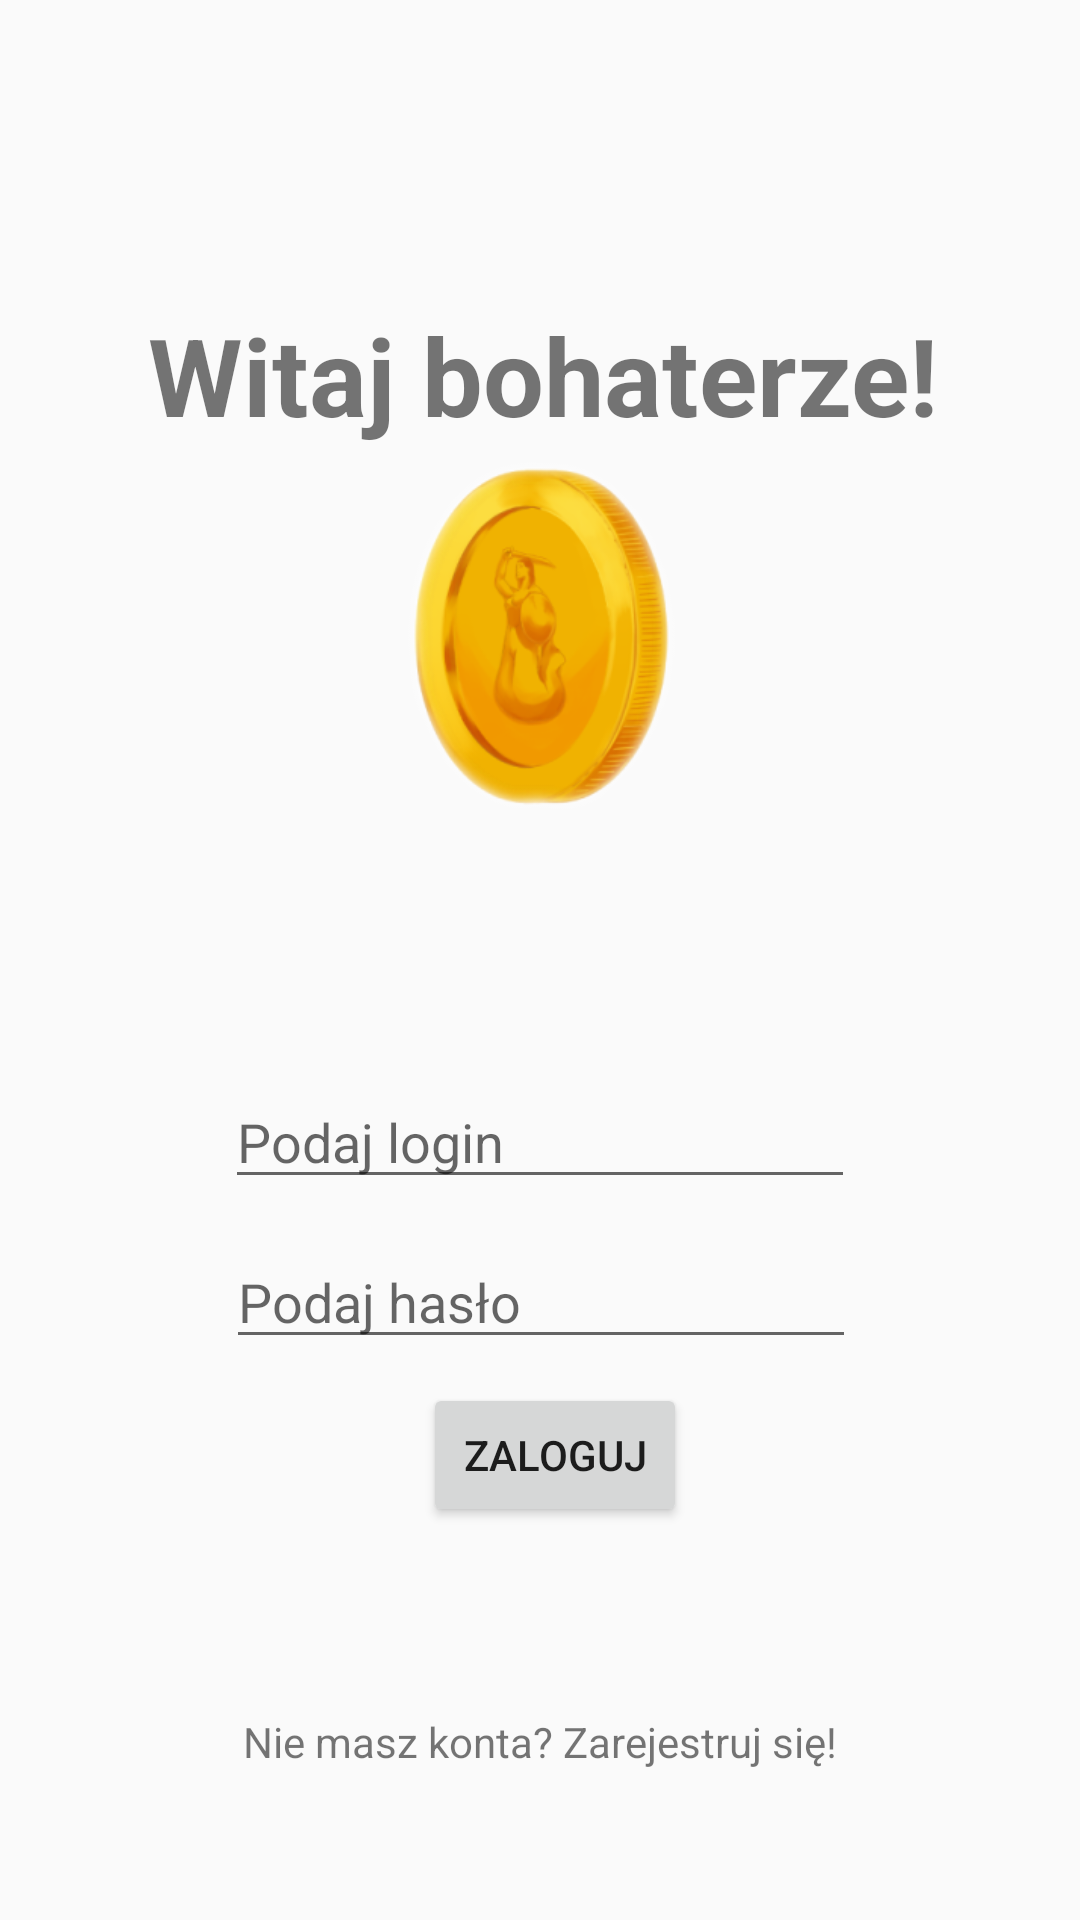

Named icons in this screenshot (1080 x 1920) and their bounding boxes, (x1, y1, x2, y2):
syrenka: (414, 469, 668, 804)
